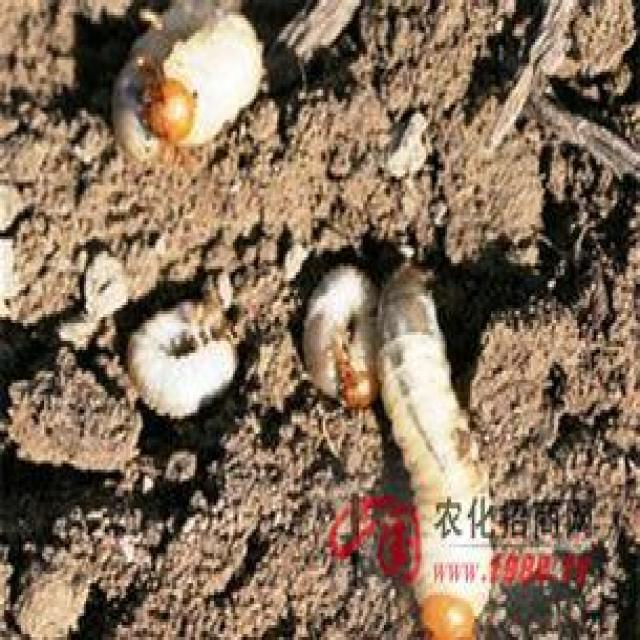Grub-Adult-: (363, 255, 512, 635), (91, 2, 268, 181), (110, 278, 246, 432), (304, 268, 386, 414)
